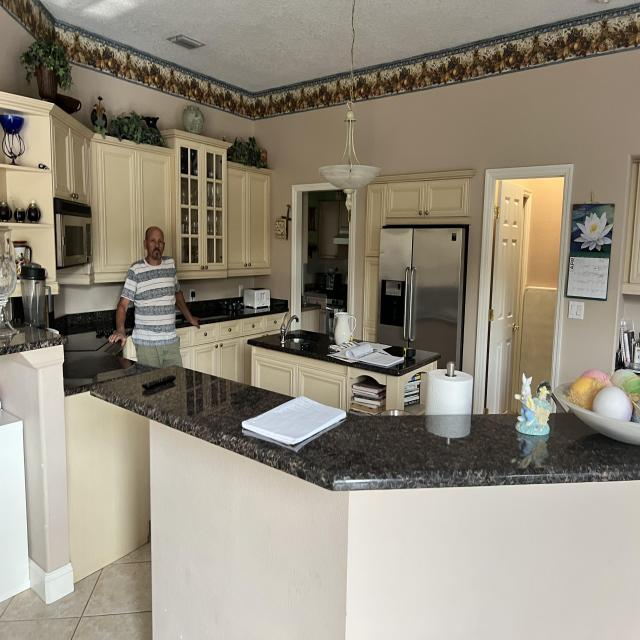Appliance_Fridge: (379, 225, 470, 371)
Appliance_Sink: (280, 313, 328, 353)
Cabinet_Glass: (175, 130, 232, 278)
Cabinet_Raised_Panel: (49, 108, 172, 283), (360, 180, 468, 343), (177, 313, 344, 410), (227, 167, 270, 271)
Countertop_Granite: (61, 310, 640, 492), (248, 331, 442, 376), (186, 299, 289, 325)
